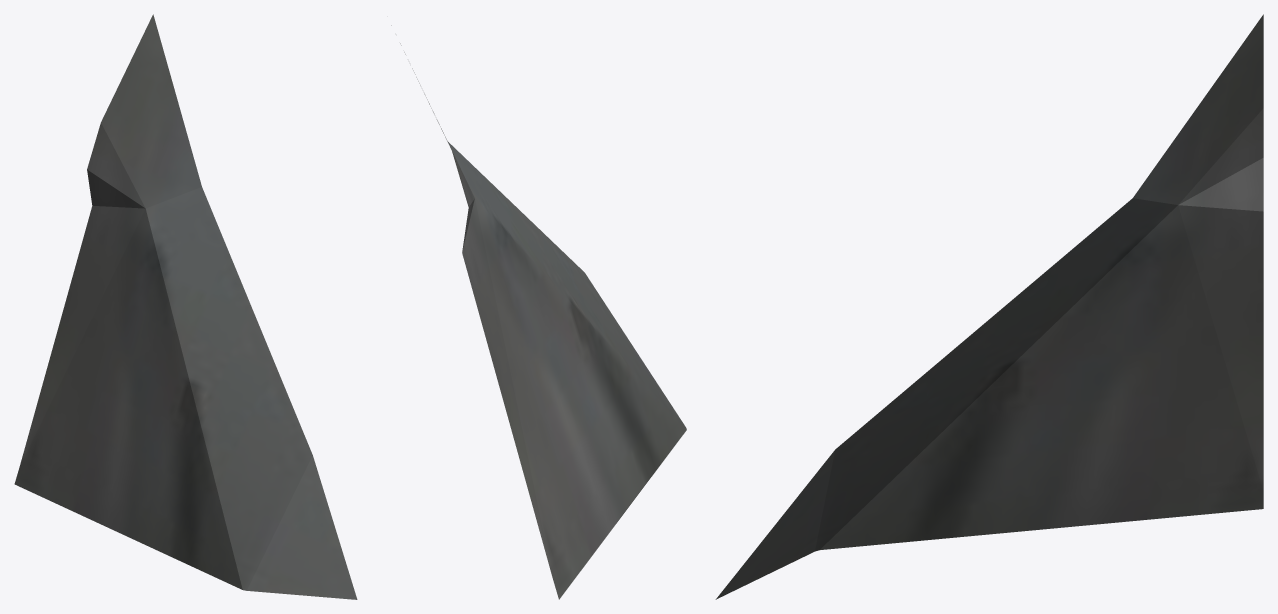
3 renders of one model, left to right at view 1: azimuth 30°, elevation 25°; view 2: azimuth 150°, elevation 25°; view 3: azimuth 270°, elevation 25°, orthographic. The views are drawn at different scales.
Size of the model in its own units: 0.0903 by 0.2714 by 0.2302.
Materials: 1 (1 with a texture image).
